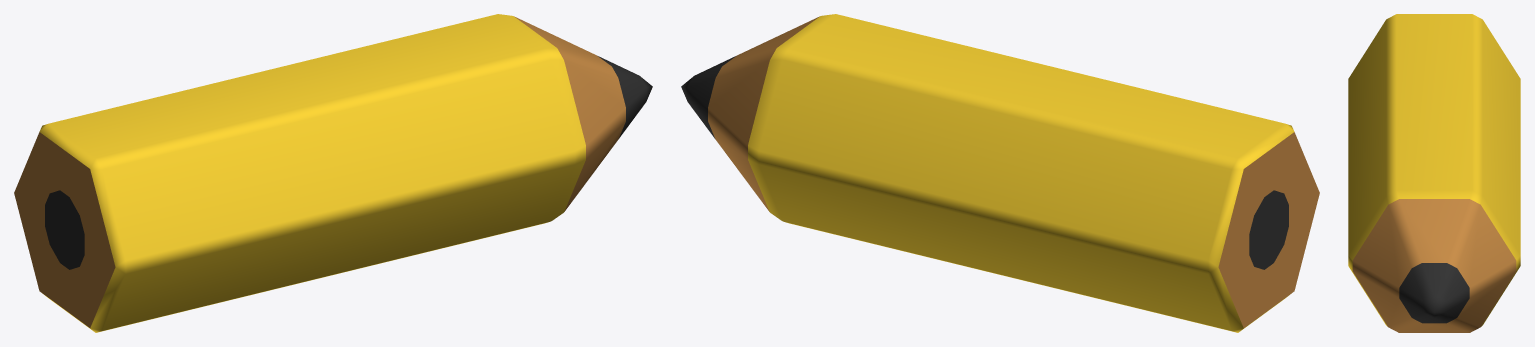
File: pencil_01.FBX
3 renders of one model, left to right at view 1: azimuth 30°, elevation 25°; view 2: azimuth 150°, elevation 25°; view 3: azimuth 270°, elevation 25°, orthographic. The views are drawn at different scales.
Visible parts, largest first — view 1: pencil_01; view 2: pencil_01; view 3: pencil_01.
Boxes of the visible parts, x1,y1,x2,y2 form: pencil_01: [14, 14, 652, 332]; pencil_01: [681, 14, 1319, 332]; pencil_01: [1348, 14, 1520, 332].
Size of the model in its own units: 1074 by 339 by 305.
1 material, 1 textured.
